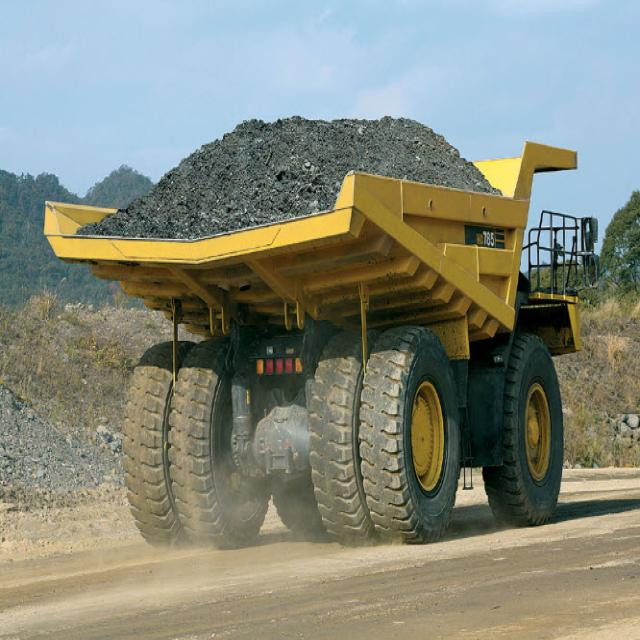dump_truck: (44, 113, 584, 548)
